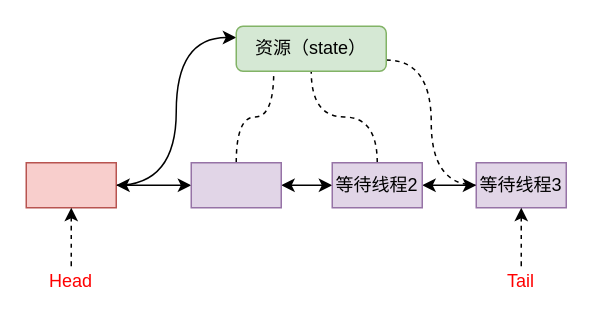
The diagram is 593 pixels wide and 323 high, and some of its shapes have lost their labels. Here are the shapes that lost their labels. From the top down, the box of each, then its label:
(25, 161, 116, 208): 占用线程
(190, 161, 281, 208): 等待线程1
